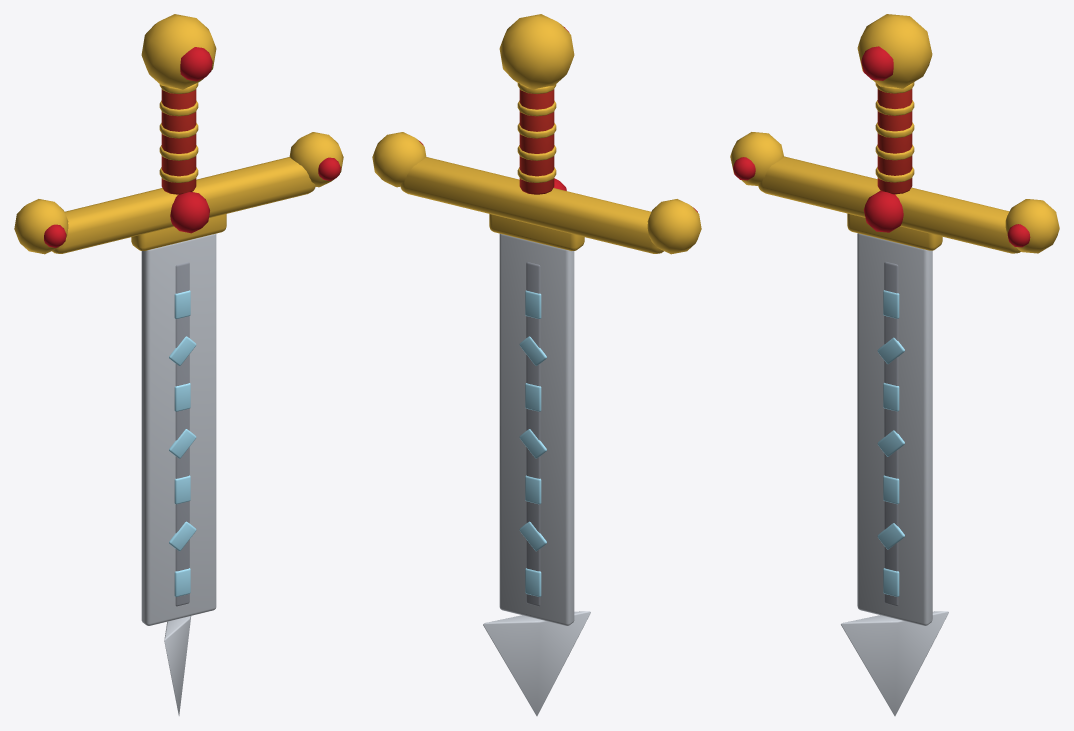
Rendered from GiantSword.glb.
3 renders of one model, left to right at view 1: azimuth 30°, elevation 25°; view 2: azimuth 150°, elevation 25°; view 3: azimuth 330°, elevation 25°, orthographic.
Parts seen in each view (by area): view 1: GiantSword; view 2: GiantSword; view 3: GiantSword.
Part boxes in pixels (bbox=[...]): GiantSword: bbox=[14, 14, 343, 715]; GiantSword: bbox=[372, 14, 701, 716]; GiantSword: bbox=[730, 14, 1059, 716].
Bounding box in the file's own units: 7.25 × 15.11 × 1.76.
